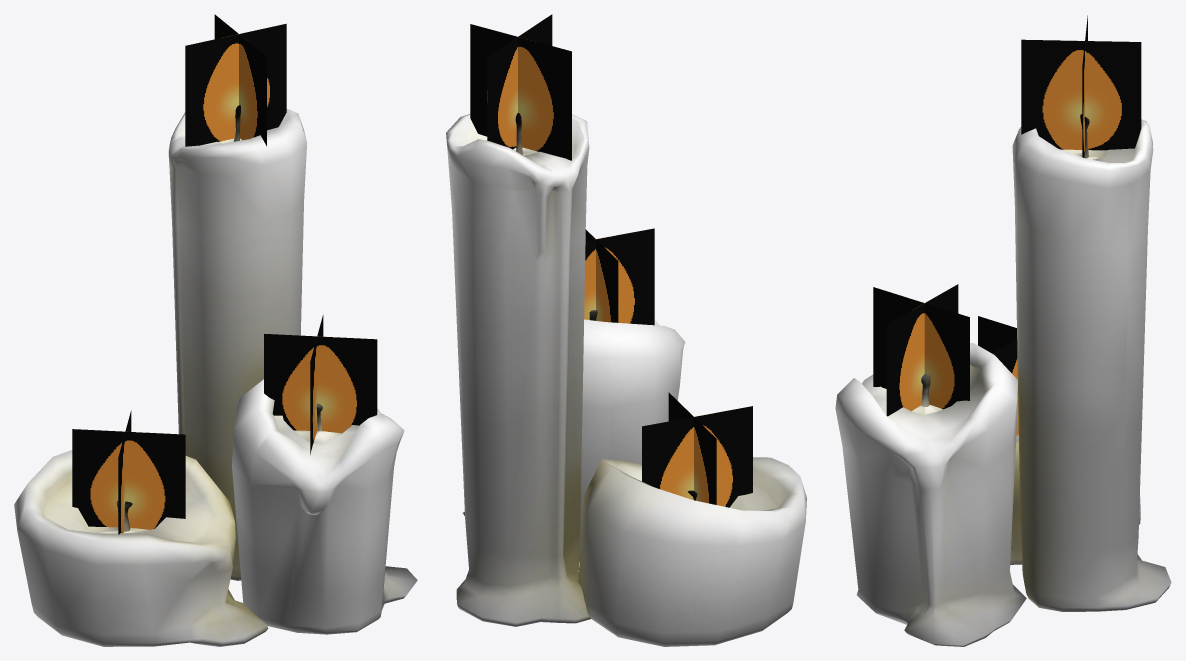
The model's file is candle_cluster_flame_smaller01.glb.
3 views of the same model, side by side, from view 1: azimuth 30°, elevation 25°; view 2: azimuth 150°, elevation 25°; view 3: azimuth 270°, elevation 25° (orthographic). The views are drawn at different scales.
Visible parts, largest first — view 1: candle_cluster_flame_smaller01; view 2: candle_cluster_flame_smaller01; view 3: candle_cluster_flame_smaller01.
Part boxes in pixels (x1,y1,x2,y2): candle_cluster_flame_smaller01: (14, 14, 417, 646); candle_cluster_flame_smaller01: (446, 14, 806, 646); candle_cluster_flame_smaller01: (835, 15, 1171, 646).
Bounding box in the file's own units: 0.3259 × 0.4716 × 0.2598.
4 materials, 4 textured.
